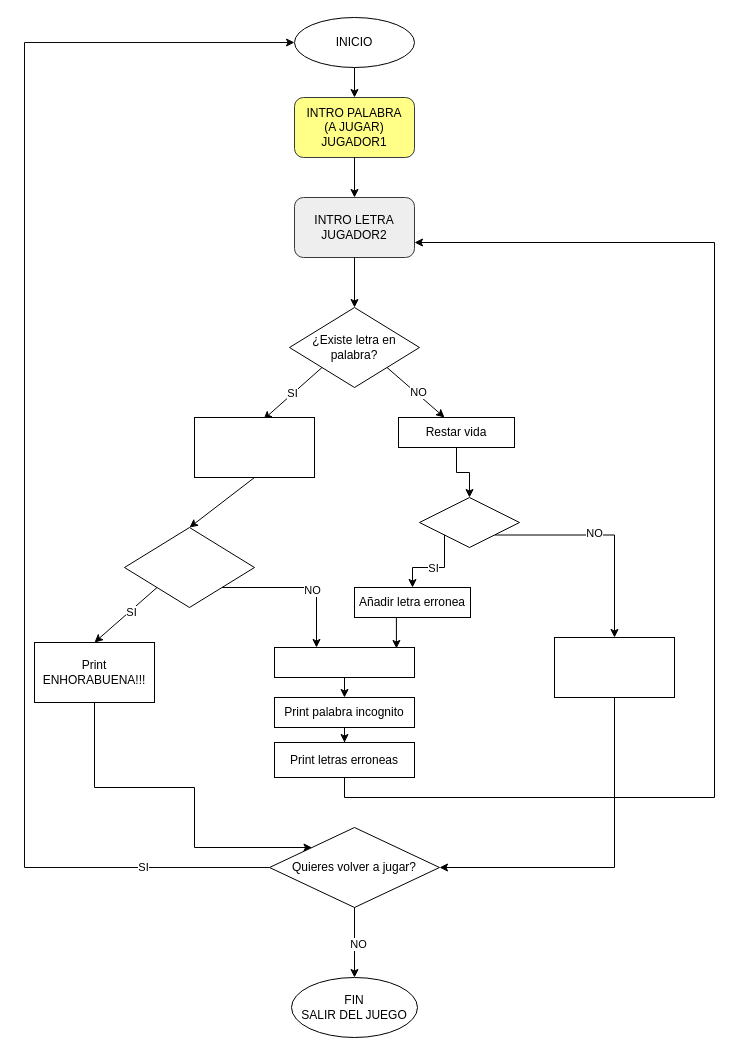
This 740x1055 diagram has some shape labels left out. Here are the shapes that lost their labels. From the top down, the centre of each, then its label:
At pixel 254 447: "Actualizamos palabra incognito".
At pixel 469 522: "Tiene vidas?".
At pixel 189 567: "Ha adivinado la palabra?".
At pixel 344 662: "Print Ahorcado".
At pixel 614 667: "Print GAME OVER!!!".
